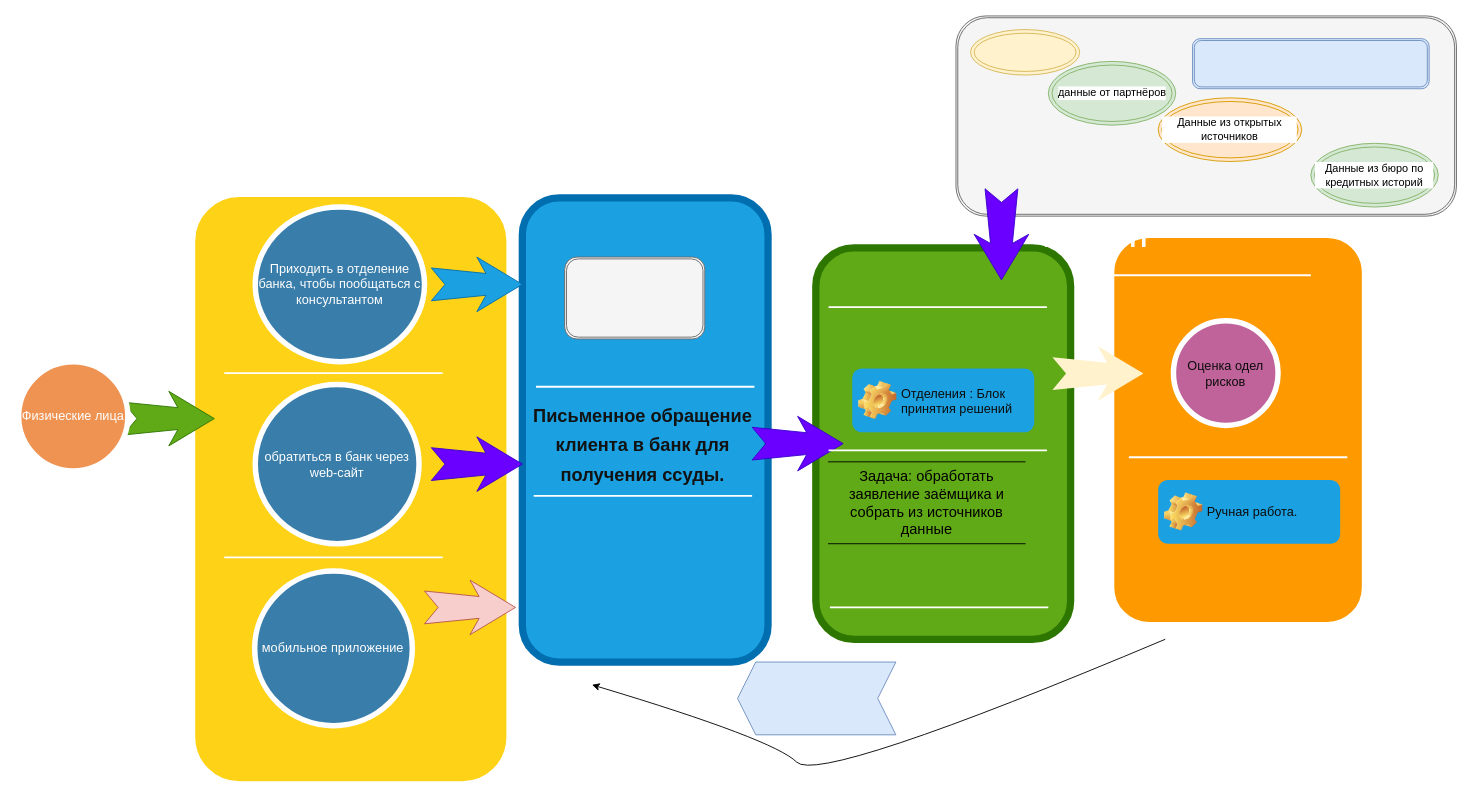
Some shapes in this 1472 by 804 pixel diagram are drawn without their labels. Here are the shapes that lost their labels. From the top down, the centre of each, then its label:
point (1025, 52): АБС
point (1310, 63): Источников получения данных
point (634, 297): Заявление на выдачу кредита
point (816, 698): Разрешить / Отказать
